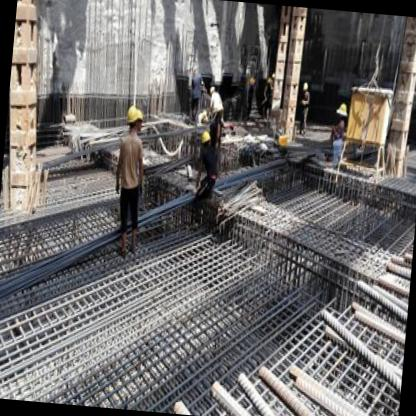helmet: (122, 102, 141, 134), (133, 105, 146, 133), (200, 126, 215, 150)
